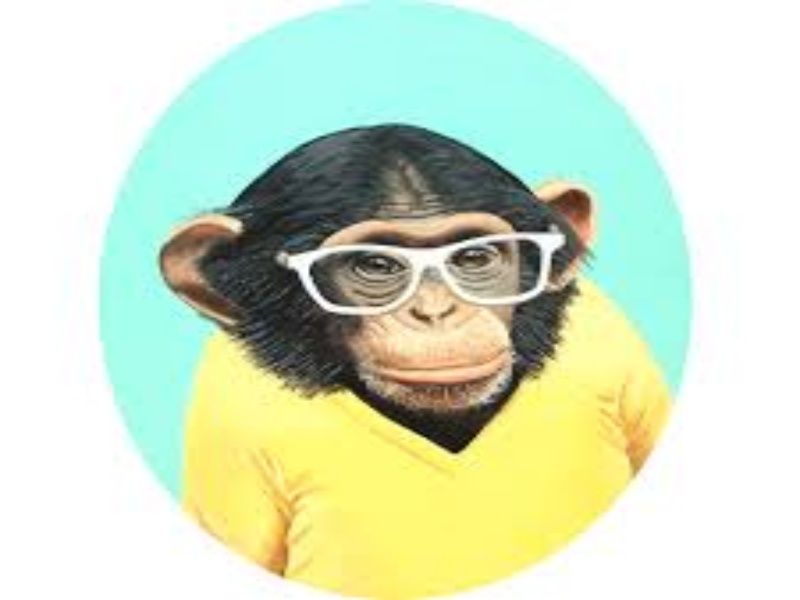monkey: (150, 105, 664, 562)
